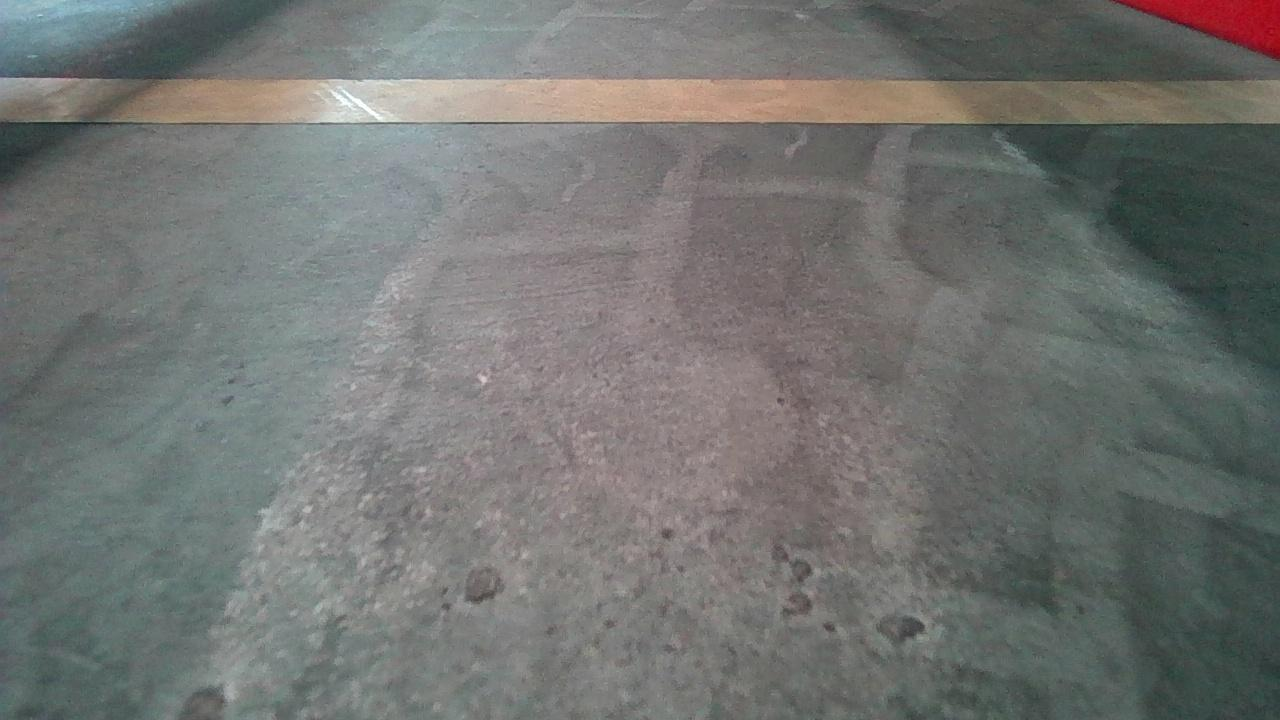yellow_line: (15, 66, 1253, 129)
